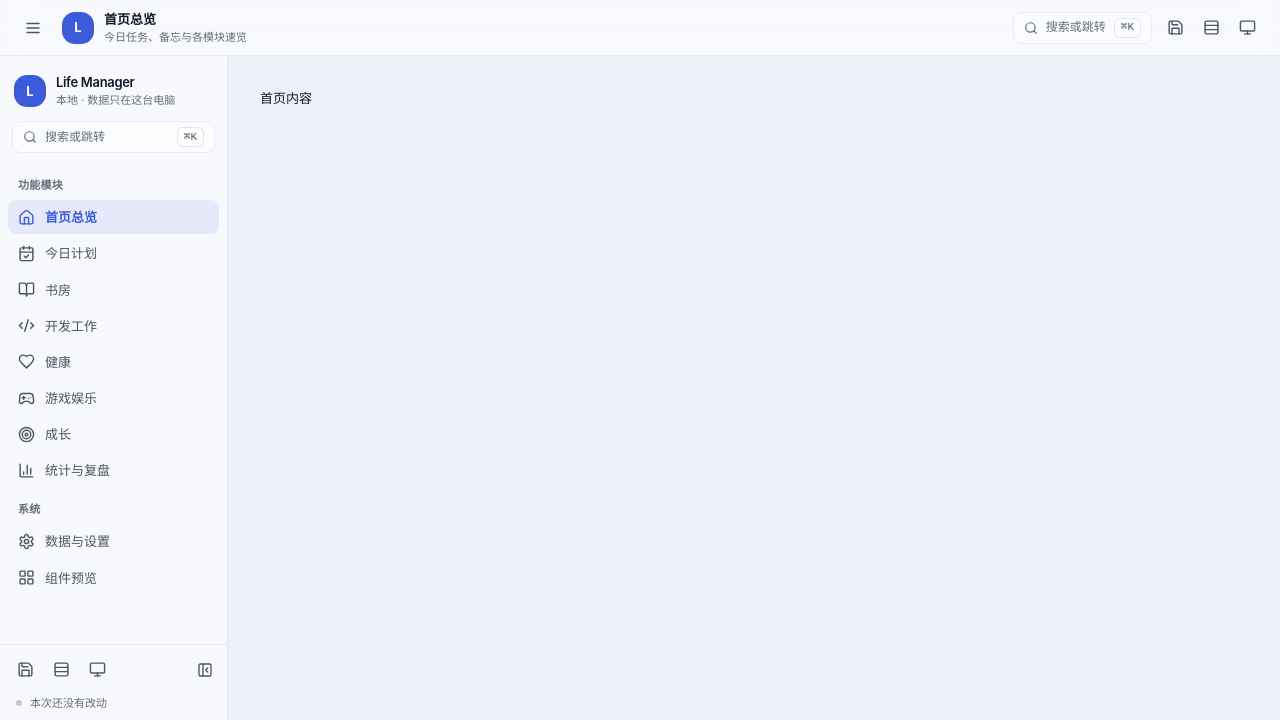
Test: Layout › 命令面板搜子页名直达那一页，不用先进默认子页再点签条
Press k
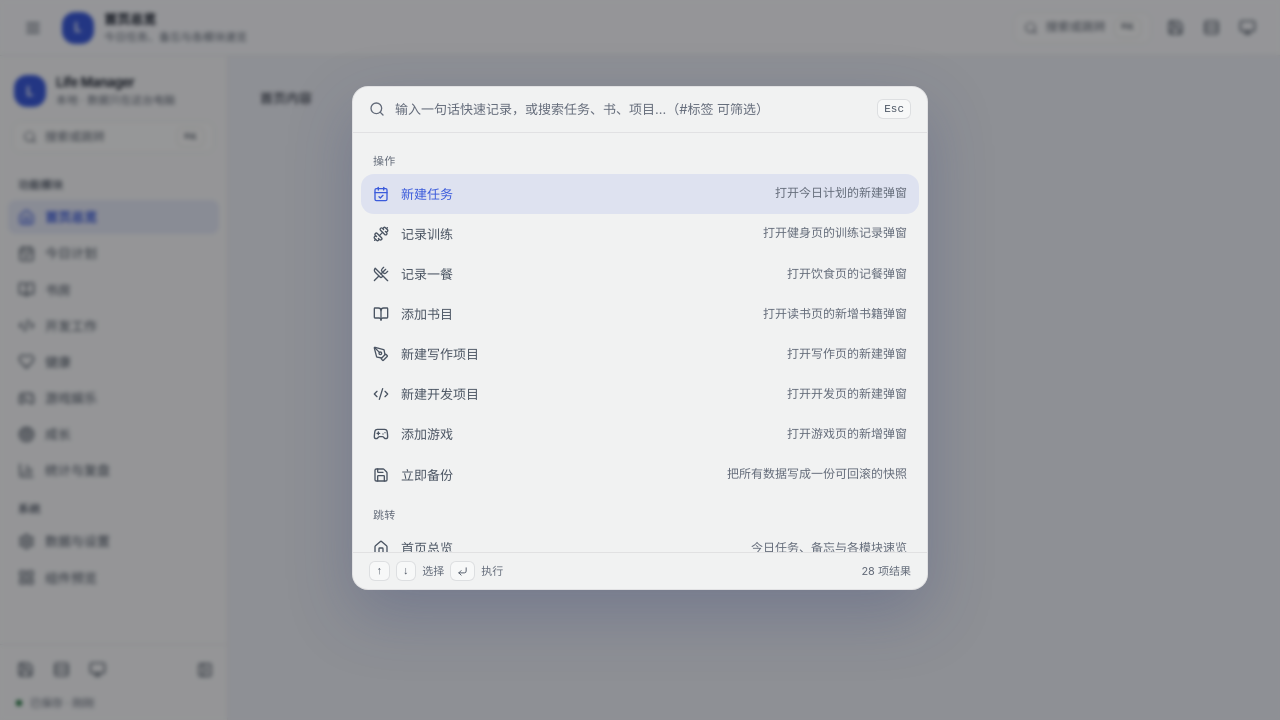
Type "写作" into the dropdown at (631, 109), box [395,99,867,120]
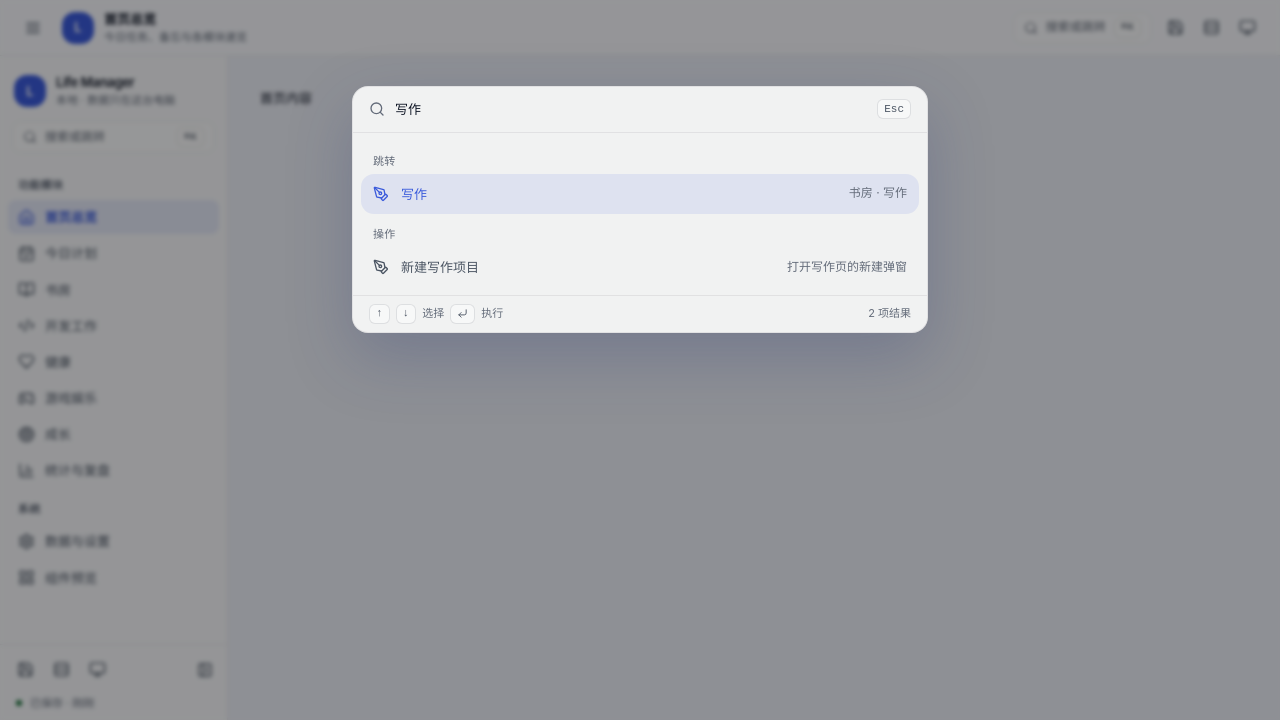
Expected: the option "写作 书房 · 写作" is shown, [361,174,919,214]
Press Enter
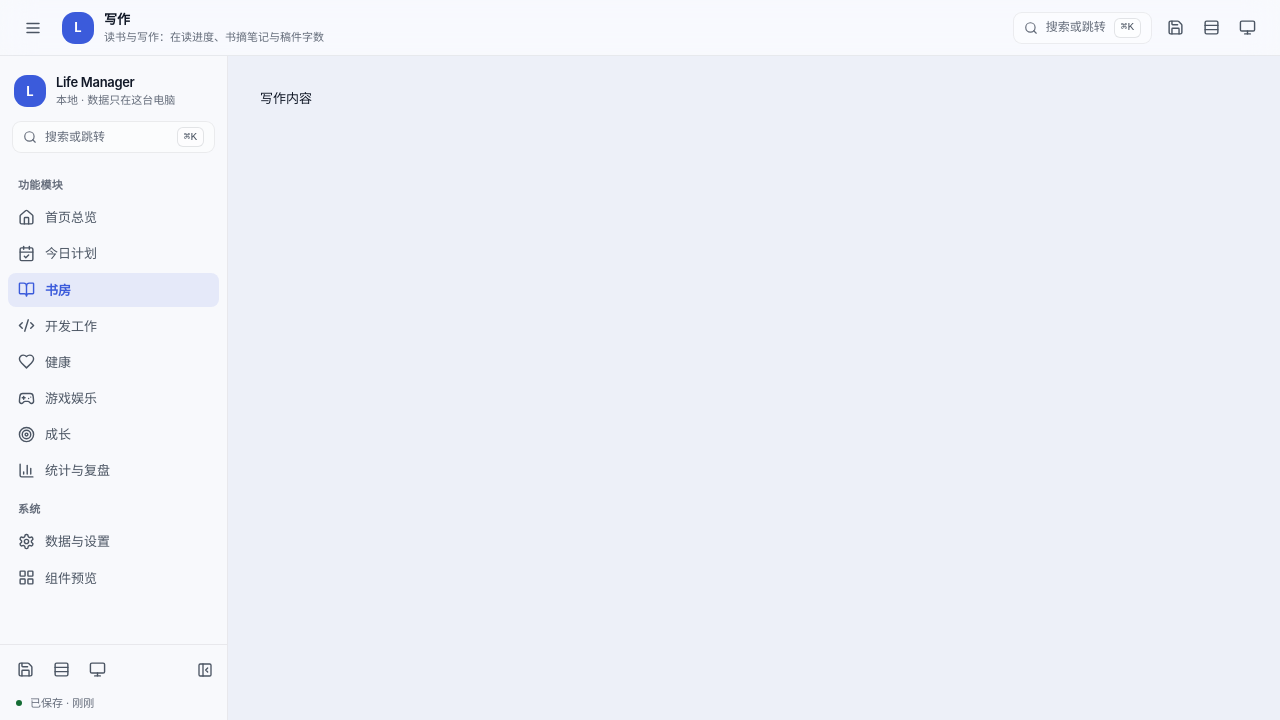
Expected: the text "写作内容" is shown, [260,90,312,106]
